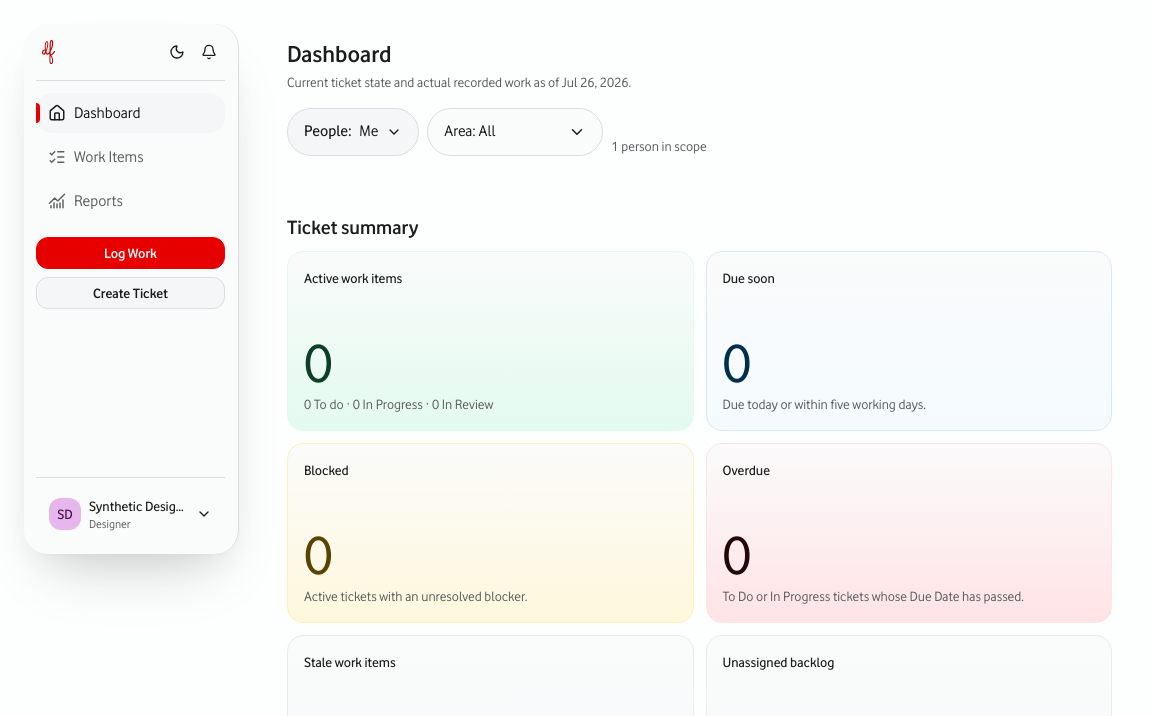
Test: authenticated application routing › signs out locally and returns to sign-in
Expected: the text "Synthetic Designer" is shown, x1=89 y1=496 x2=188 y2=516
Click the button with aria-label "Open profile menu for Synthetic Designer": click(130, 514) x1=36 y1=486 x2=225 y2=542
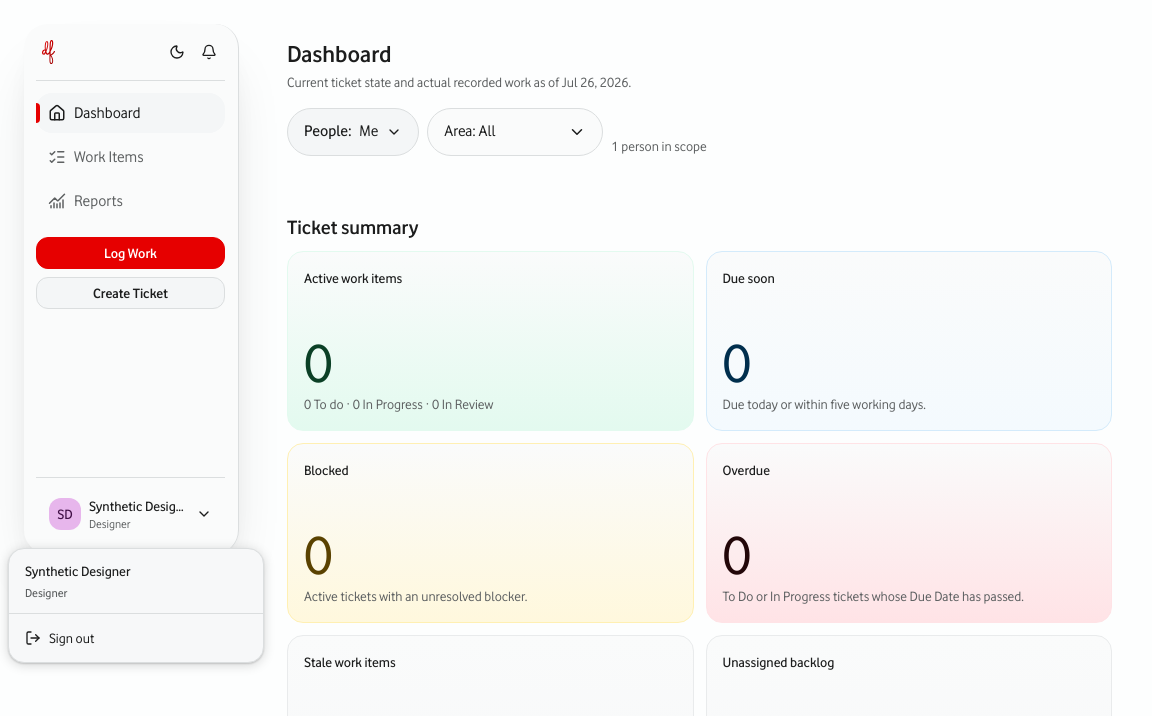
Click the menu item "Sign out": click(60, 638) x1=25 y1=630 x2=94 y2=646
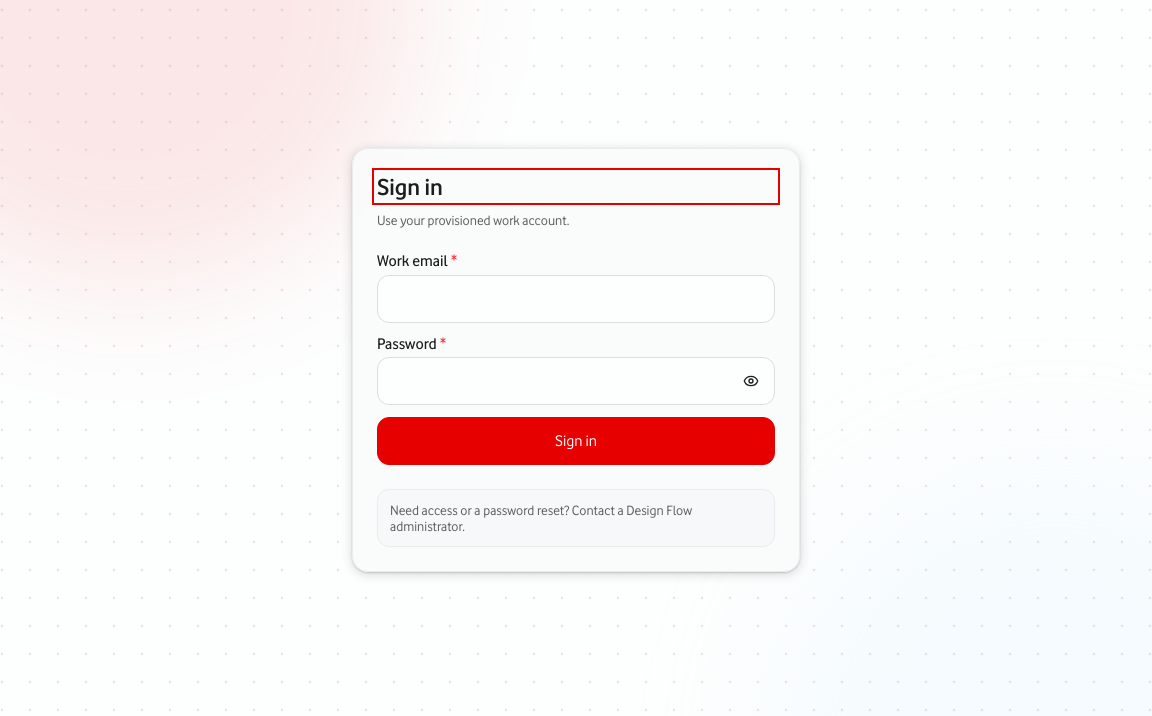
Expected: the heading "Sign in" is shown, x1=377 y1=173 x2=443 y2=200
